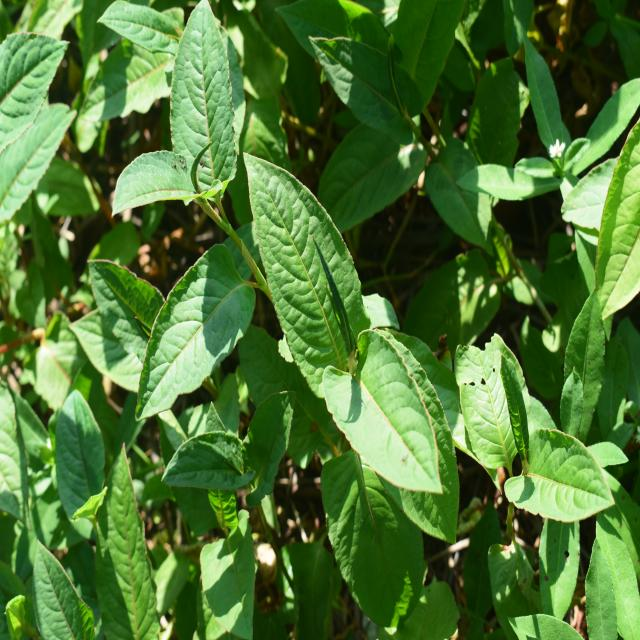Chinese_knotweed: (257, 166, 474, 532), (111, 22, 261, 389)
